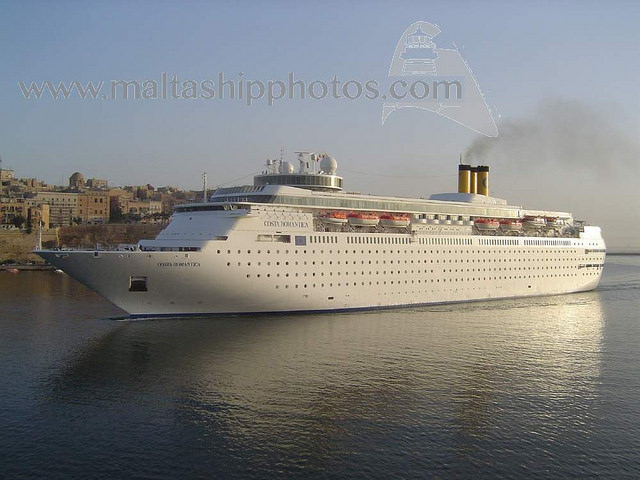cruise_ship: (46, 143, 608, 320)
